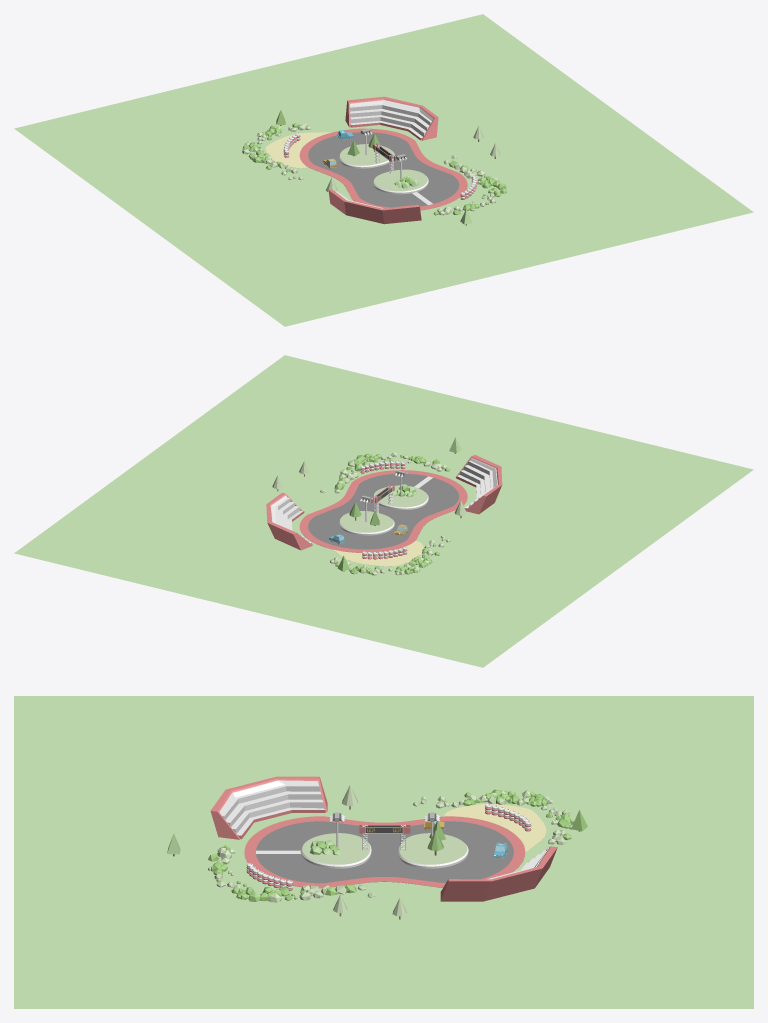
The model's file is racetrack.glb.
3 renders of one model, top to bottom at view 1: azimuth 30°, elevation 25°; view 2: azimuth 150°, elevation 25°; view 3: azimuth 270°, elevation 25°, orthographic. The views are drawn at different scales.
Visible parts, largest first — view 1: Plane_2, Cap_2_6, Cap_2_2, Cap_2_7, Cap, Loft_2, Cap_2, Cube_1; view 2: Plane_2, Cap_2_6, Cap_2_7, Cap, Cap_2_4, Cap_2, Cap_2_2, Loft, Loft_2; view 3: Plane_2, Cap_2_6, Cap_2_4, Cap_2_7, Cap, Loft, Cap_2, Cube_1, Loft_2.
Boxes of the visible parts, left/top/right/bottom form: Plane_2: left=14, top=14, right=753, bottom=326; Cap_2_6: left=308, top=132, right=459, bottom=207; Cap_2_2: left=350, top=100, right=432, bottom=137; Cap_2_7: left=299, top=128, right=467, bottom=210; Cap: left=340, top=144, right=427, bottom=191; Loft_2: left=328, top=190, right=421, bottom=224; Cap_2: left=265, top=132, right=331, bottom=168; Cube_1: left=338, top=151, right=432, bottom=205; Plane_2: left=14, top=355, right=753, bottom=667; Cap_2_6: left=308, top=474, right=459, bottom=549; Cap_2_7: left=299, top=470, right=467, bottom=552; Cap: left=340, top=485, right=427, bottom=532; Cap_2_4: left=457, top=458, right=497, bottom=508; Cap_2: left=332, top=540, right=423, bottom=566; Cap_2_2: left=270, top=495, right=311, bottom=543; Loft: left=267, top=493, right=312, bottom=550; Loft_2: left=455, top=456, right=501, bottom=514; Plane_2: left=14, top=696, right=753, bottom=1008; Cap_2_6: left=256, top=821, right=513, bottom=883; Cap_2_4: left=219, top=780, right=325, bottom=835; Cap_2_7: left=244, top=816, right=525, bottom=888; Cap: left=302, top=833, right=466, bottom=864; Loft: left=440, top=847, right=557, bottom=901; Cap_2: left=444, top=803, right=546, bottom=852; Cube_1: left=256, top=842, right=468, bottom=868; Loft_2: left=210, top=777, right=327, bottom=839.
Bounding box in the file's own units: 26.28 × 1.69 × 26.28.
